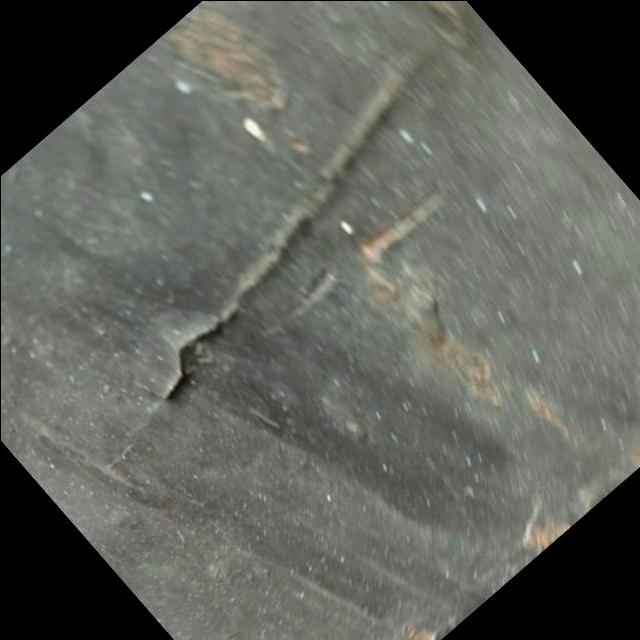defect: (157, 59, 427, 406)
